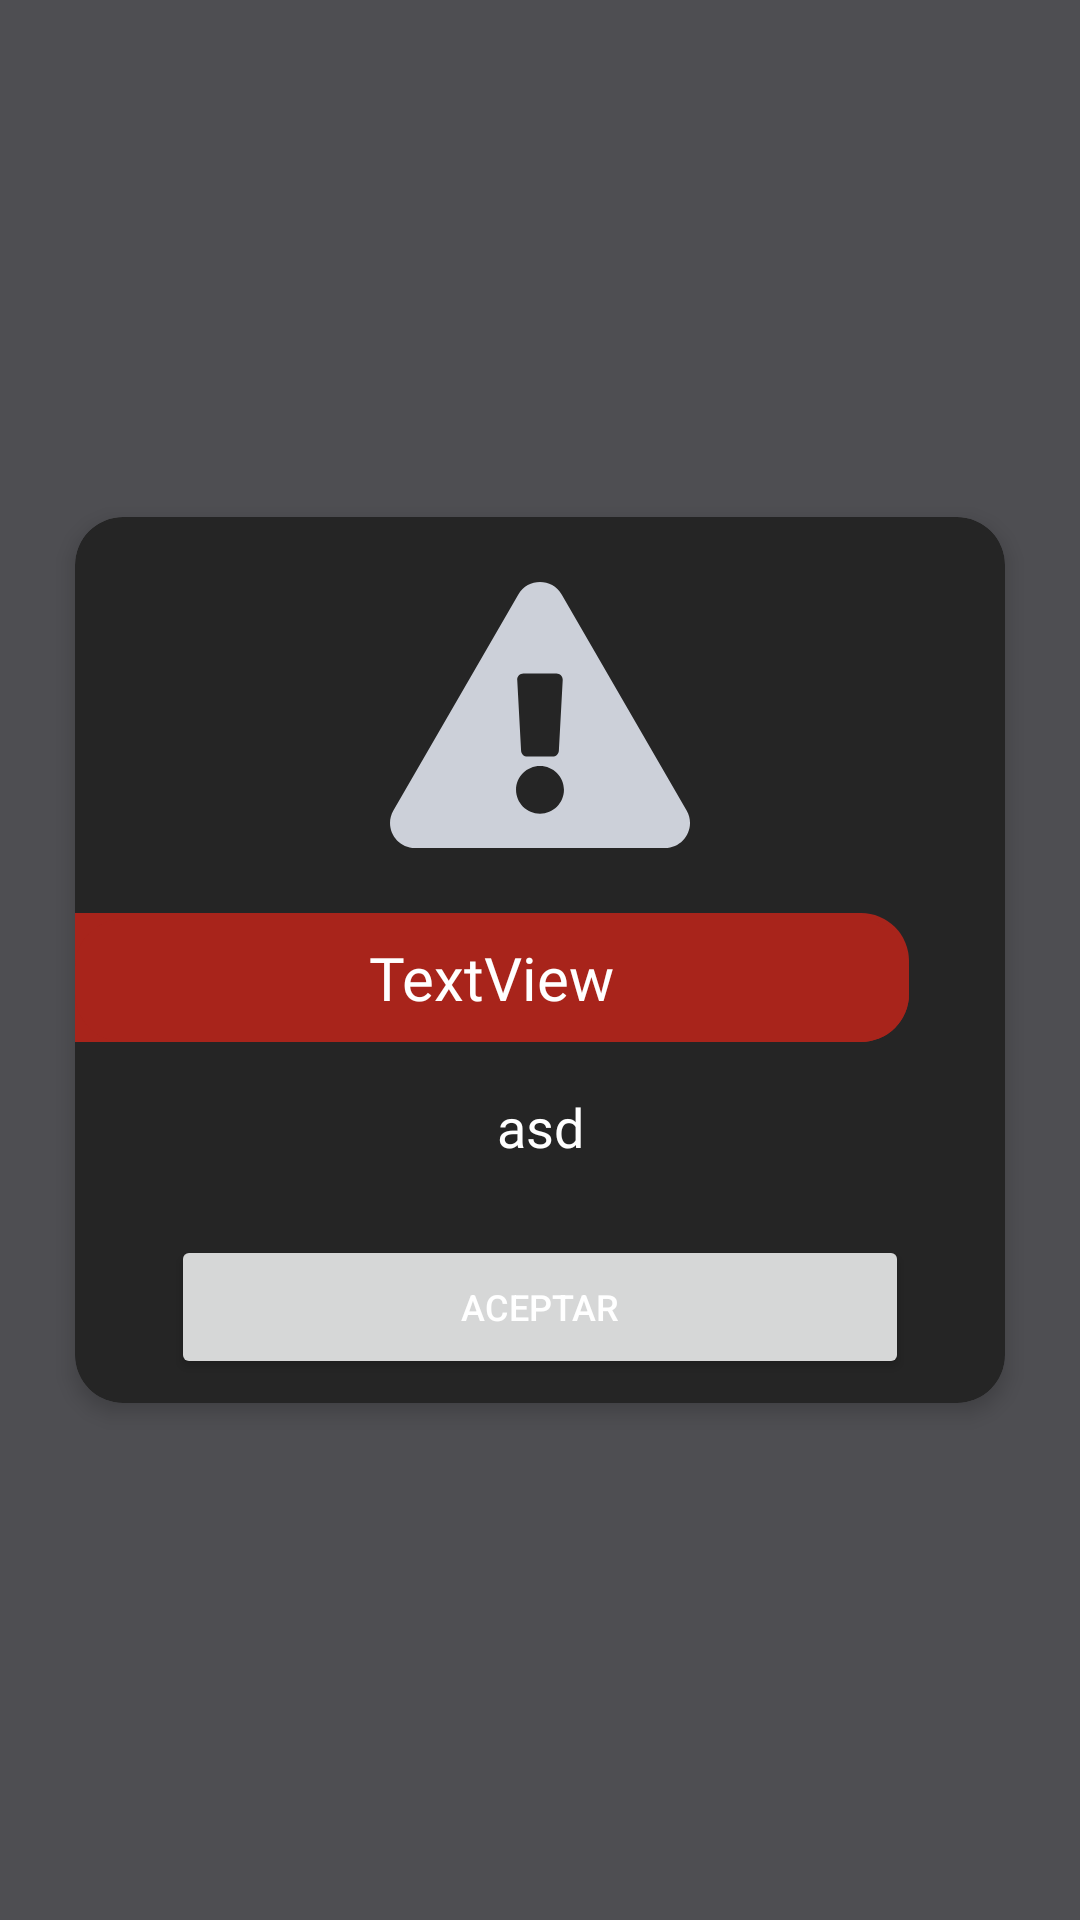

Icons on this 1080 x 1920 Android screen, each with the point to tap as (x=x, y=y):
exclamation triangle: (x=540, y=715)
